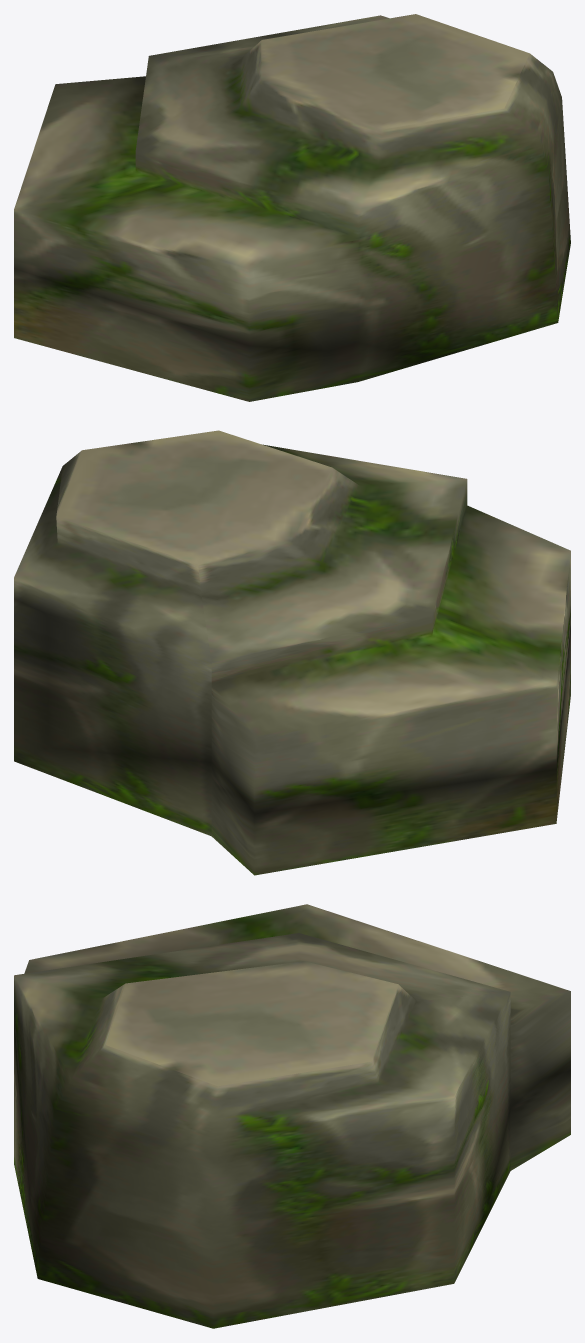
The model's file is RockFormation_4_5 (5).fbx.
3 renders of one model, top to bottom at view 1: azimuth 30°, elevation 25°; view 2: azimuth 150°, elevation 25°; view 3: azimuth 270°, elevation 25°, orthographic. The views are drawn at different scales.
Visible parts, largest first — view 1: RockFormation_4_5 (5); view 2: RockFormation_4_5 (5); view 3: RockFormation_4_5 (5).
Part boxes in pixels (<box>): RockFormation_4_5 (5): <box>14,14,570,401</box>; RockFormation_4_5 (5): <box>14,430,570,875</box>; RockFormation_4_5 (5): <box>14,904,570,1328</box>.
Bounding box in the file's own units: 548 × 201 × 459.
